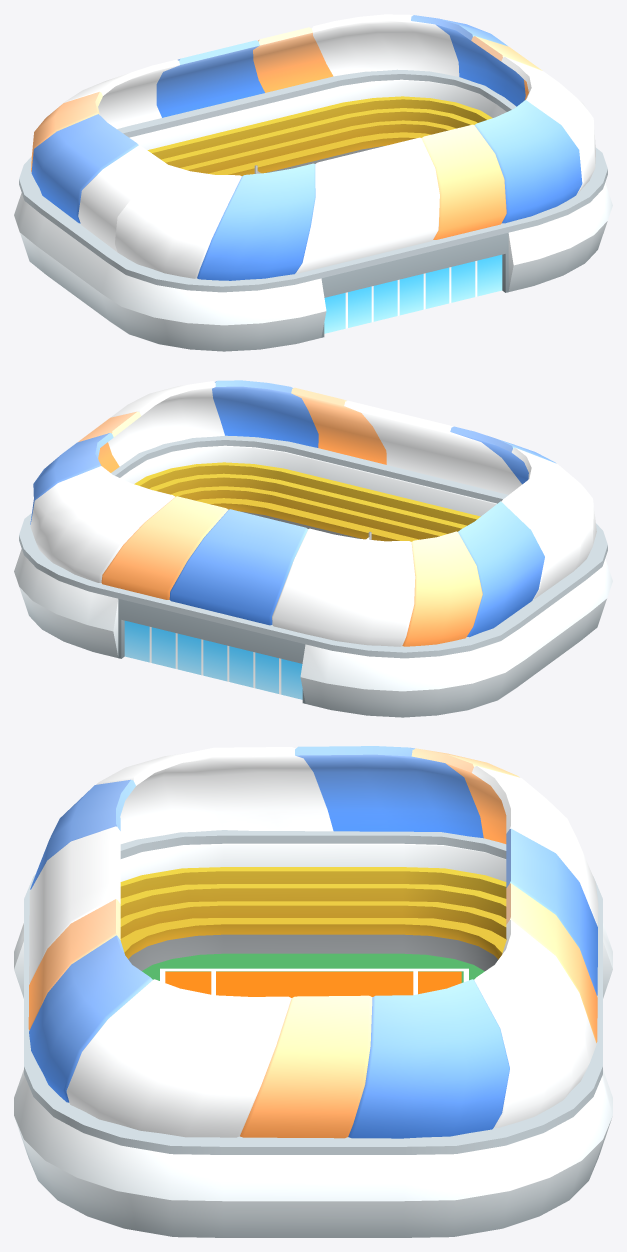
Rendered from Stadium_06.glb.
3 views of the same model, one above another, from view 1: azimuth 30°, elevation 25°; view 2: azimuth 150°, elevation 25°; view 3: azimuth 270°, elevation 25° (orthographic). The views are drawn at different scales.
Visible parts, largest first — view 1: Stadium_06; view 2: Stadium_06; view 3: Stadium_06.
Boxes of the visible parts, x1,y1,x2,y2 form: Stadium_06: [14, 14, 612, 351]; Stadium_06: [14, 380, 612, 717]; Stadium_06: [14, 746, 612, 1237].
Size of the model in its own units: 38.92 by 11.14 by 29.41.
Materials: 1 (1 with a texture image).
